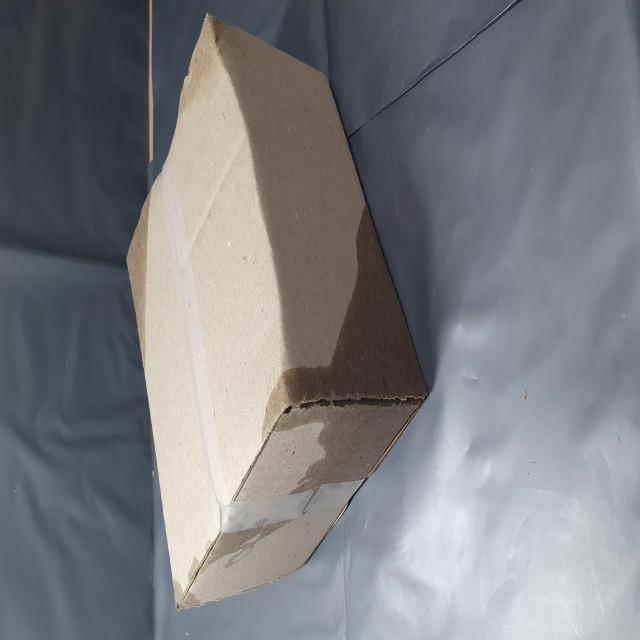wet: (78, 491, 247, 640)
